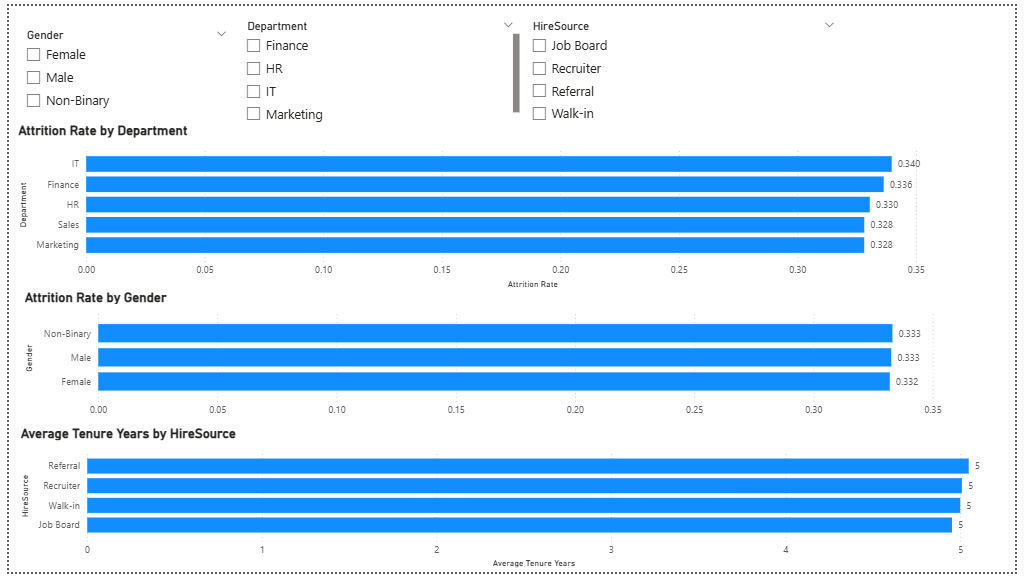

The page's visual inventory and layout, read from the dashboard file:
{"tool":"powerbi","page":{"name":"Page 2","canvas":[1280,720],"ordinal":1},"visuals":[{"type":"slicer","fields":{"Values":["HR_cleaned_data_for_powerbi.Gender"]},"box":[9.8,23.6,279.7,126.1],"z":0},{"type":"slicer","fields":{"Values":["HR_cleaned_data_for_powerbi.Department"]},"box":[289.5,11.8,364.4,149.7],"z":1000},{"type":"slicer","fields":{"Values":["HR_cleaned_data_for_powerbi.HireSource"]},"box":[653.9,11.8,409.7,149.7],"z":2000},{"type":"barChart","fields":{"Category":["HR_cleaned_data_for_powerbi.Department"],"Y":["HR_cleaned_data_for_powerbi.Attrition Rate"]},"box":[5.9,149,1245,215.7],"z":3000},{"type":"barChart","fields":{"Y":["HR_cleaned_data_for_powerbi.Attrition Rate"],"Category":["HR_cleaned_data_for_powerbi.Gender"]},"box":[15.7,360.8,1245,172.5],"z":4000},{"type":"barChart","fields":{"Y":["HR_cleaned_data_for_powerbi.Average Tenure Years"],"Category":["HR_cleaned_data_for_powerbi.HireSource"]},"box":[9.8,533.3,1235.2,186.3],"z":5000}]}

Visuals, with their boxes in screenshot pixels (x1, y1, x2, y2), scaled from the page's 1280x720 canvas onto the 1027x584 screenshot:
slicer - HR_cleaned_data_for_powerbi.Gender: crop(8, 19, 232, 121)
slicer - HR_cleaned_data_for_powerbi.Department: crop(232, 10, 525, 131)
slicer - HR_cleaned_data_for_powerbi.HireSource: crop(525, 10, 853, 131)
barChart - HR_cleaned_data_for_powerbi.Department x HR_cleaned_data_for_powerbi.Attrition Rate: crop(5, 121, 1004, 296)
barChart - HR_cleaned_data_for_powerbi.Attrition Rate x HR_cleaned_data_for_powerbi.Gender: crop(13, 293, 1012, 433)
barChart - HR_cleaned_data_for_powerbi.Average Tenure Years x HR_cleaned_data_for_powerbi.HireSource: crop(8, 433, 999, 583)
